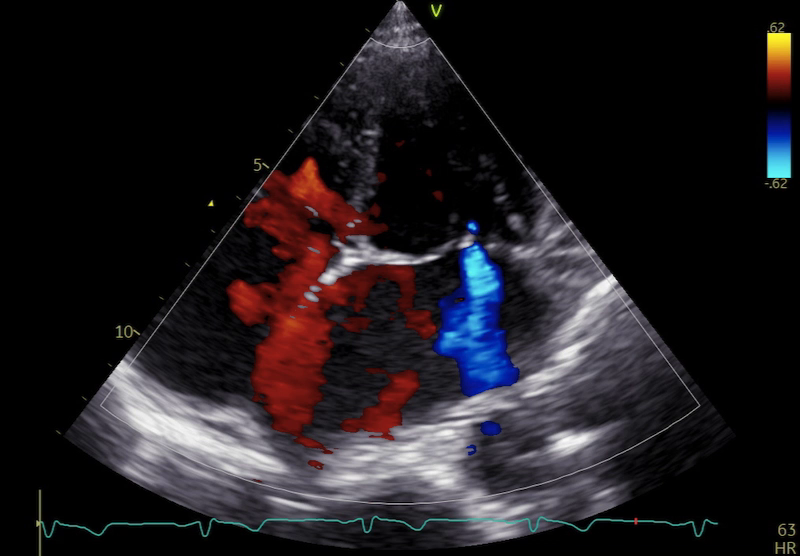MR: (372, 222, 513, 312)
